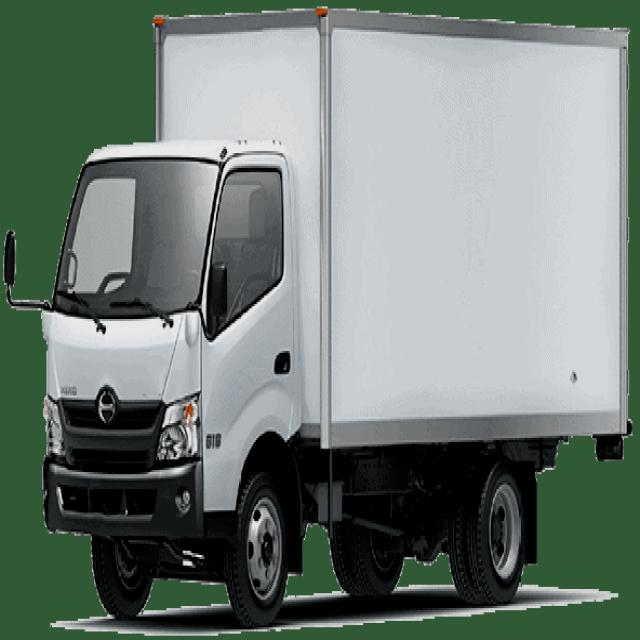TRUCK: (45, 18, 640, 625)
